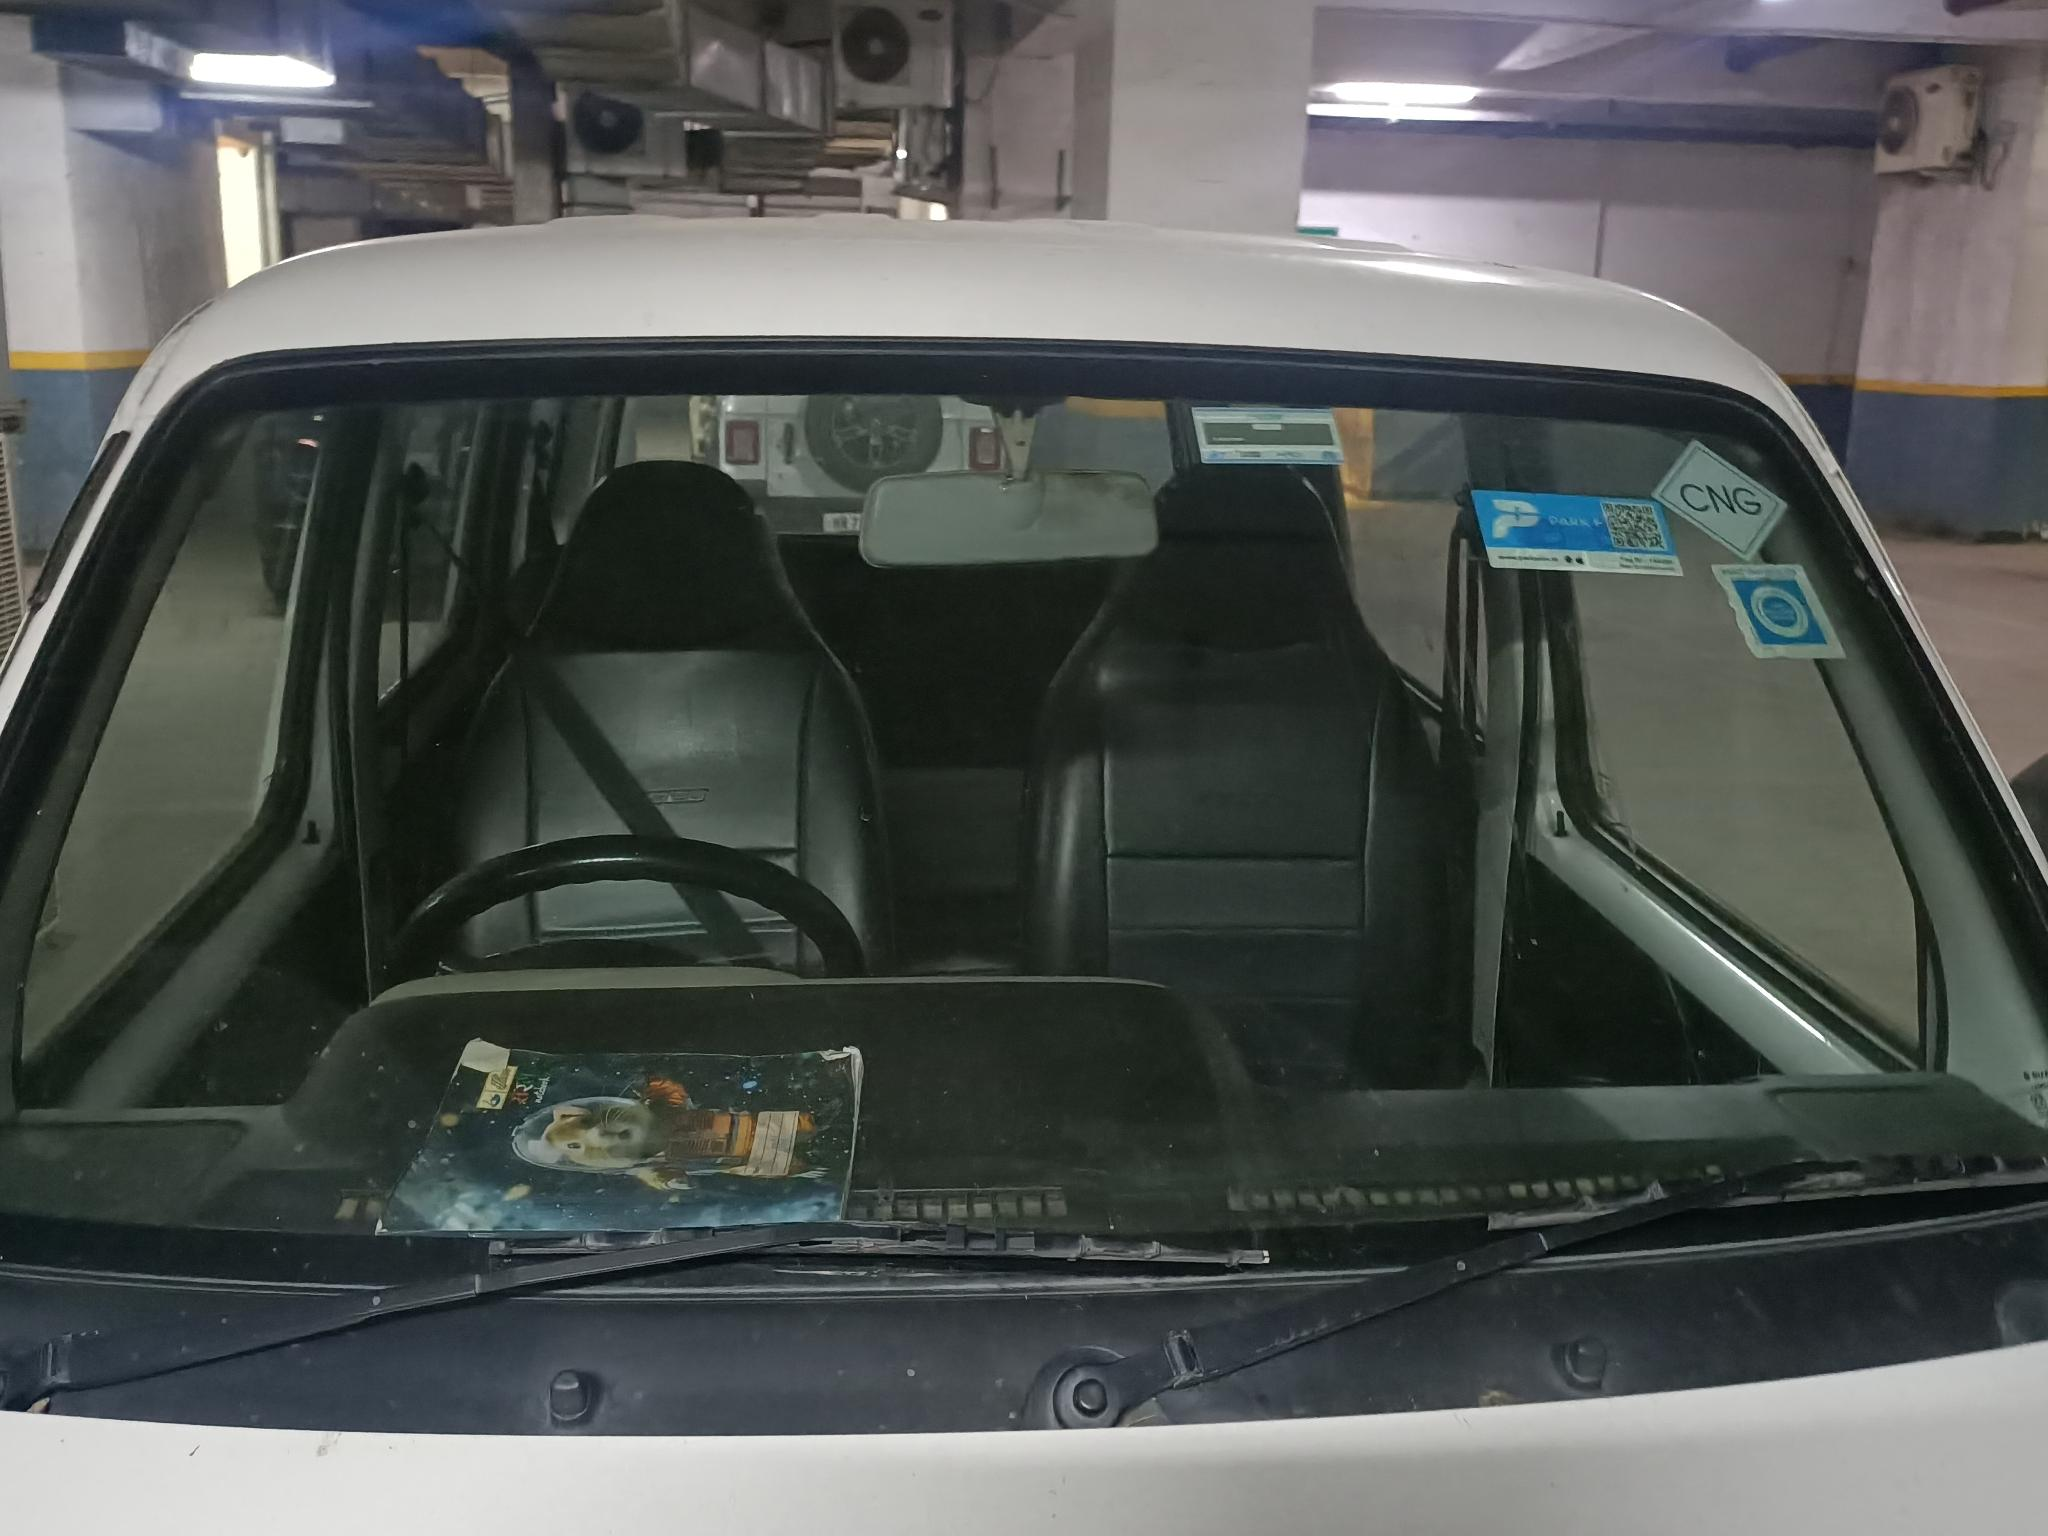FastTag: (1174, 395, 1356, 482)
not a FastTag: (1463, 473, 1680, 589), (1643, 426, 1801, 568), (1696, 558, 1858, 665)
